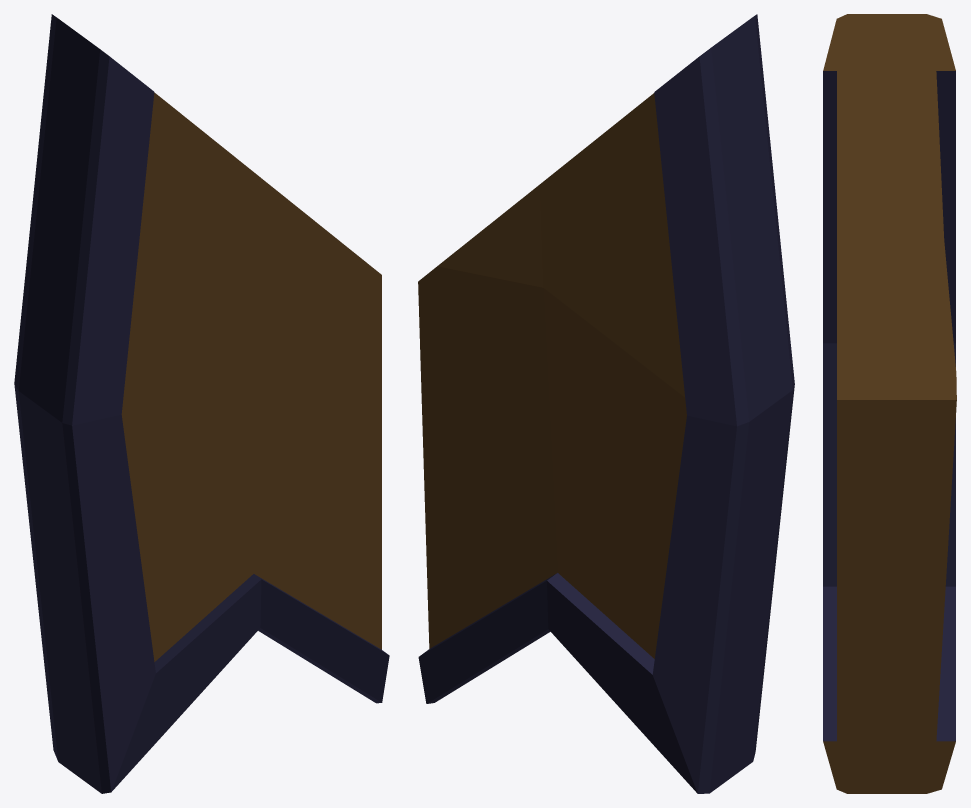
File: Shield03.fbx
3 renders of one model, left to right at view 1: azimuth 30°, elevation 25°; view 2: azimuth 150°, elevation 25°; view 3: azimuth 270°, elevation 25°, orthographic. The views are drawn at different scales.
Parts seen in each view (by area): view 1: Armor.003; view 2: Armor.003; view 3: Armor.003.
Part boxes in pixels (x1,y1,x2,y2): Armor.003: [14, 14, 389, 793]; Armor.003: [418, 14, 794, 793]; Armor.003: [823, 14, 956, 793].
Bounding box in the file's own units: 120 × 273 × 48.73.
